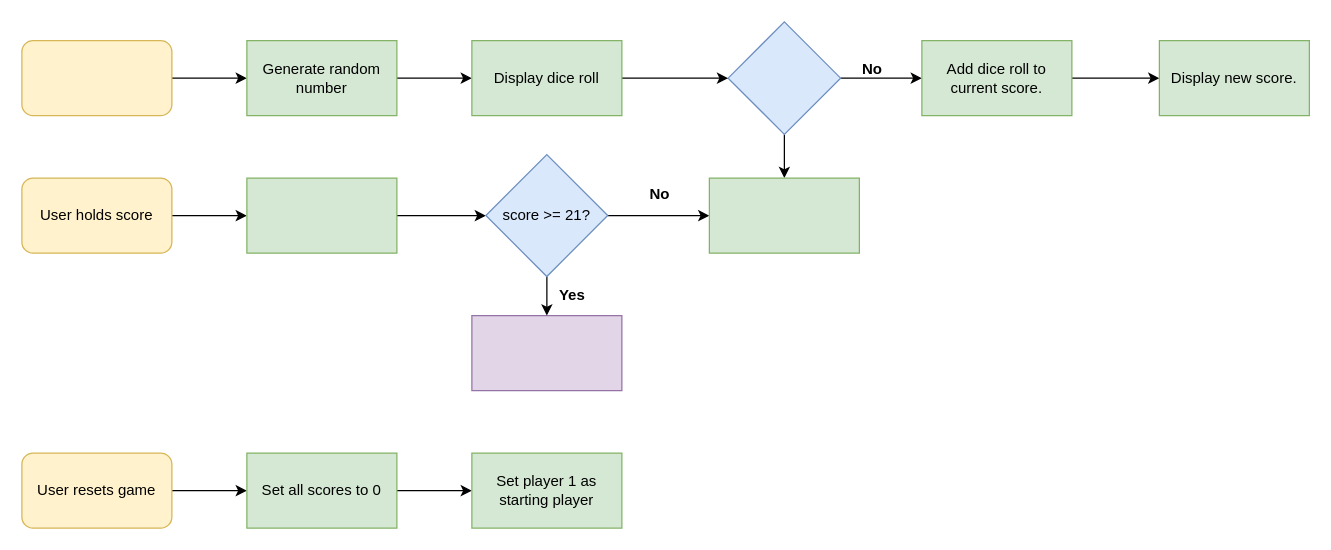
Image size: 1331x550. Some labels were removed from this diagram. The shapes that lost their labels are listed below. From the top down, each one's centre as x and y in pixels, then its label:
At point (96, 77): "User rolls dice".
At point (784, 77): "Is it a 1?".
At point (321, 215): "Add current score to total score".
At point (783, 215): "Switch Players".
At point (546, 352): "Current Player Wins!".
